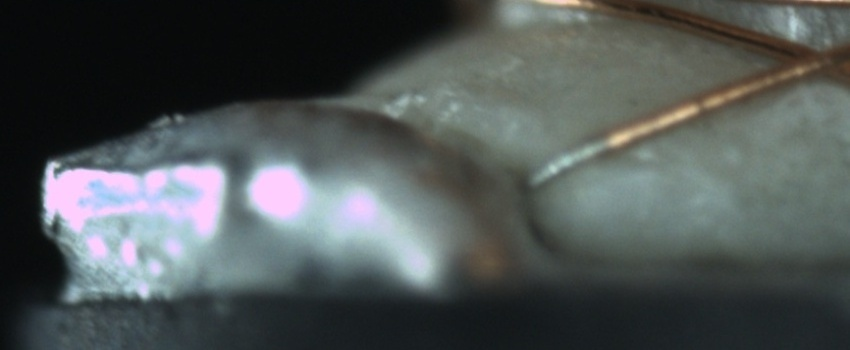CL: (757, 32, 848, 90)
TS: (520, 135, 611, 191)
TTCW: (522, 127, 631, 191)
